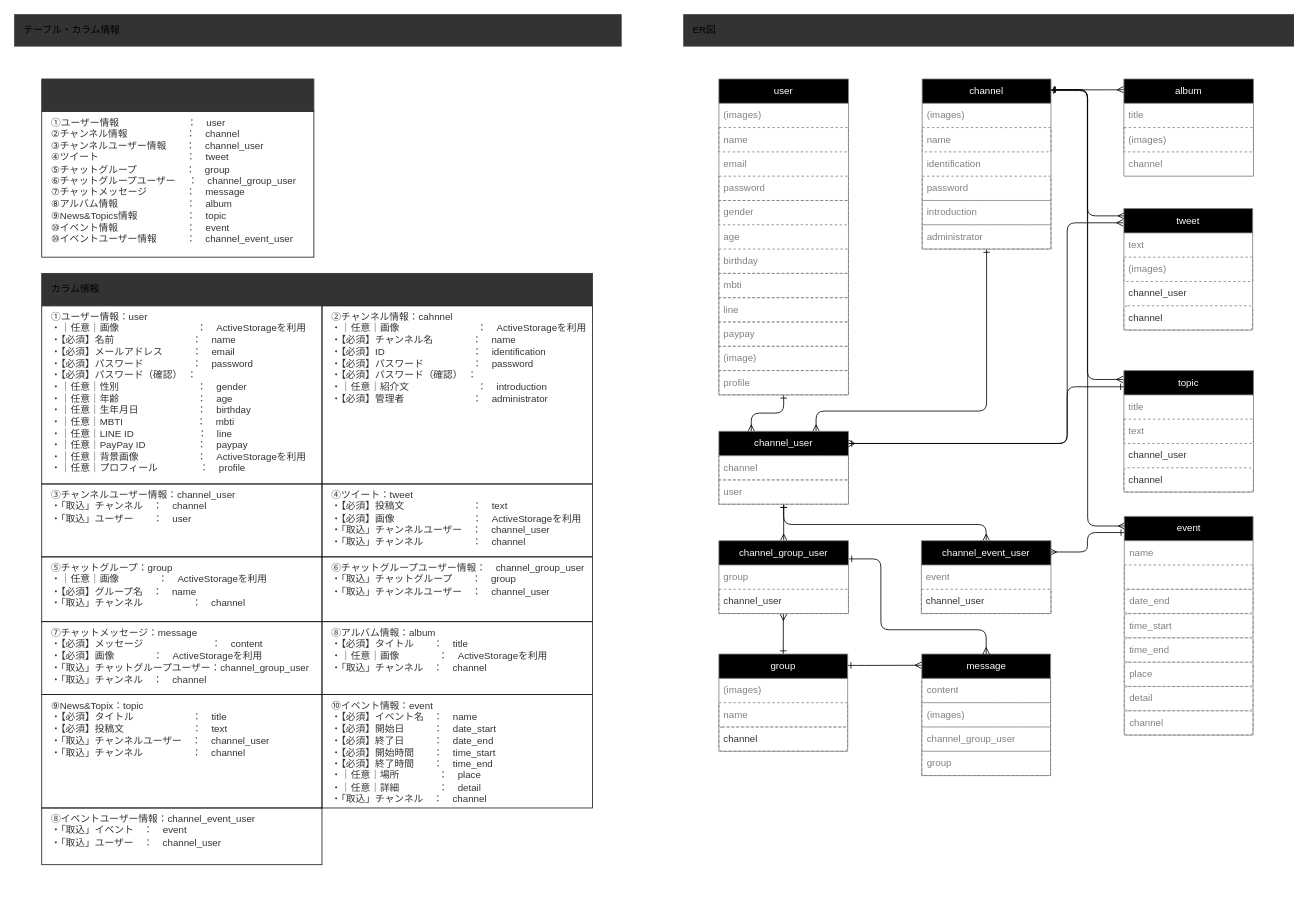
Image size: 1307x919. Some labels were removed from this diagram. Each missing label, with the centre of its shape:
"date_start" belongs at point 1188,576.
"テーブル情報" belongs at point 177,94.
